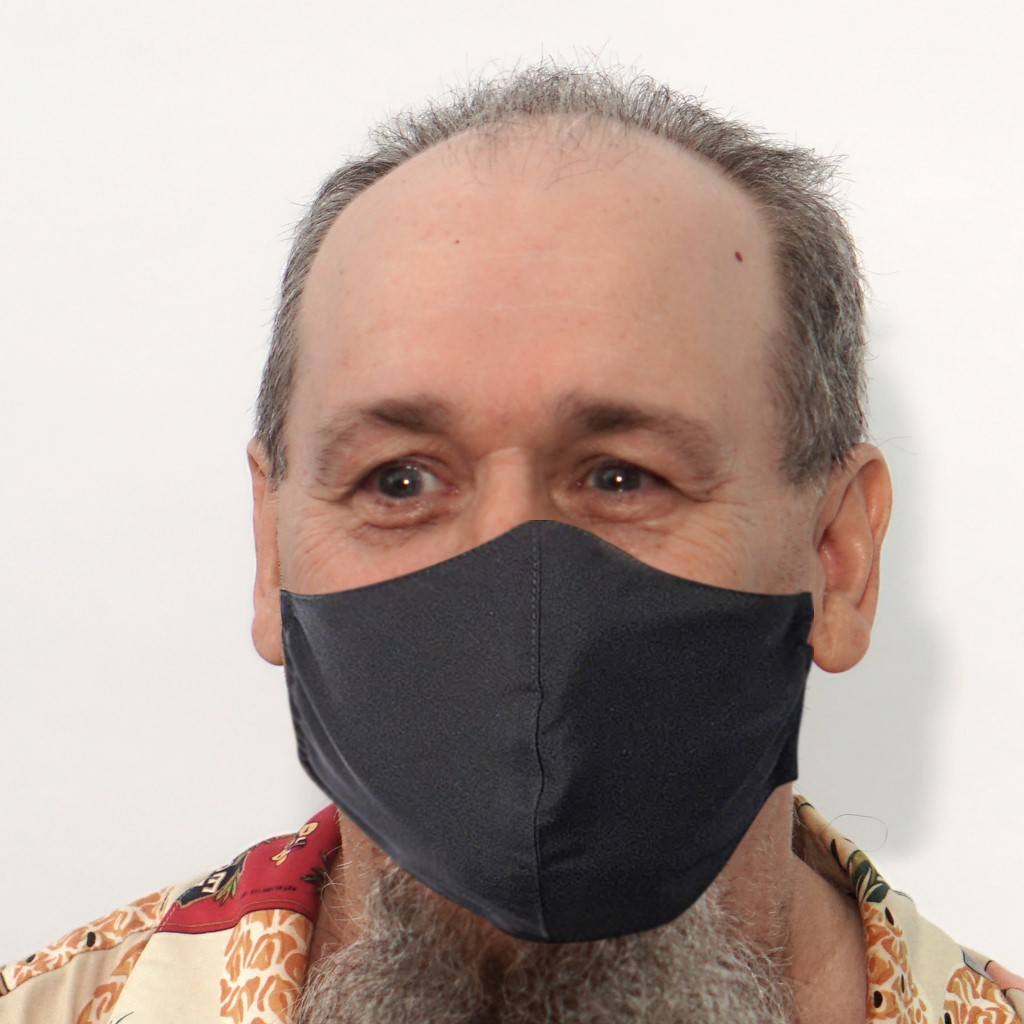con_mascara: (258, 122, 868, 941)
